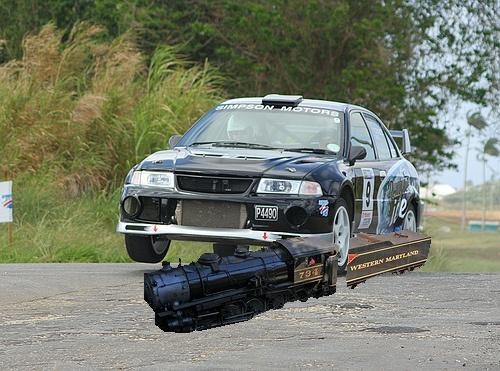tampered: (145, 230, 431, 333)
